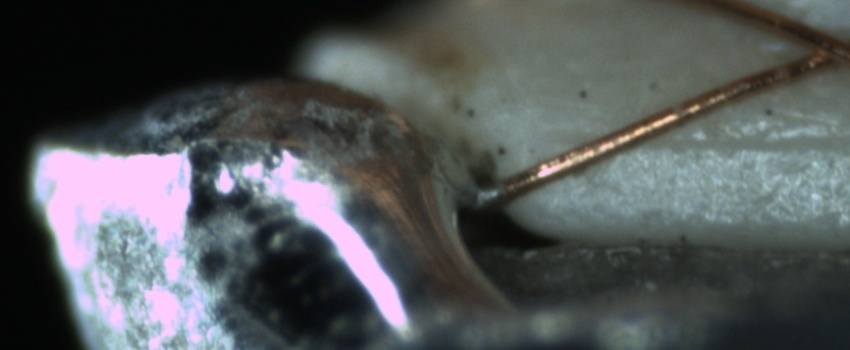CL: (790, 21, 850, 75)
DL: (559, 110, 847, 175)
TS: (467, 180, 502, 212)
